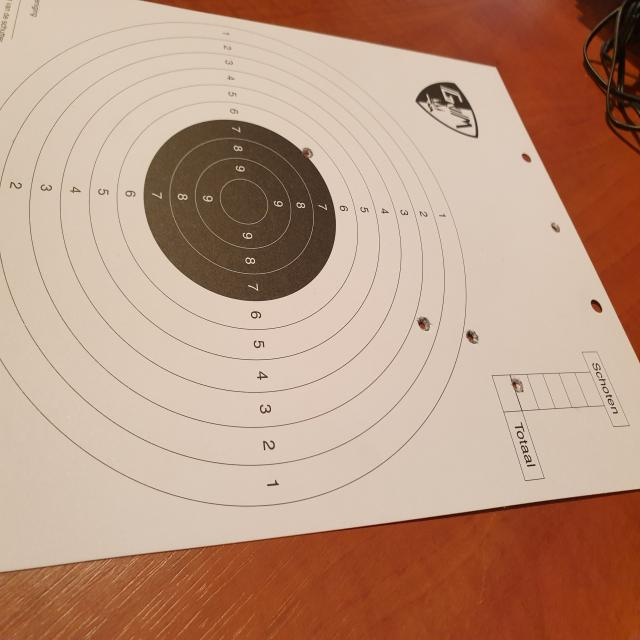0: (510, 376, 524, 394), (466, 329, 480, 344), (550, 221, 560, 233)
2: (417, 315, 431, 332)
7: (302, 147, 314, 158)
Target: (0, 17, 468, 510)
black_contour: (144, 119, 336, 301)
